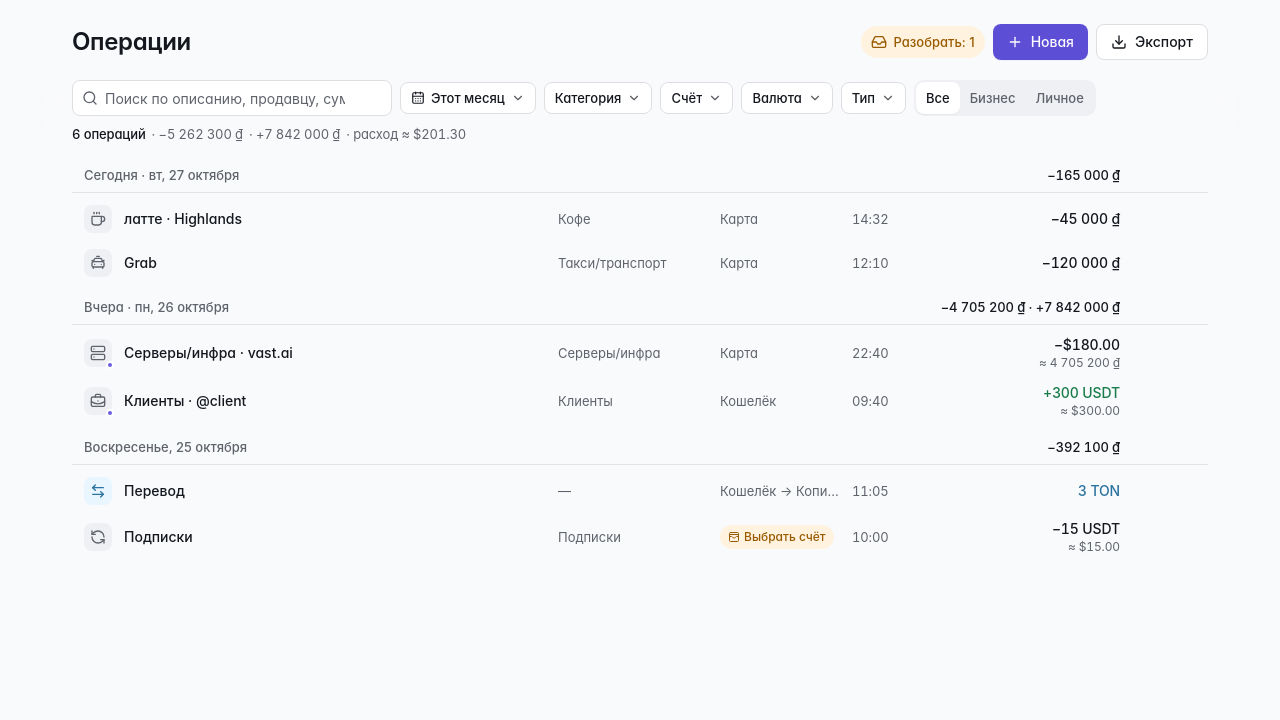
Test: OperationsView › shows a clear message on version conflict and keeps the form
The image size is (1280, 720).
Click the button "латте · Highlands Кофе Карта 14:32 −45 000 ₫": (183, 218) [72,197,1208,241]
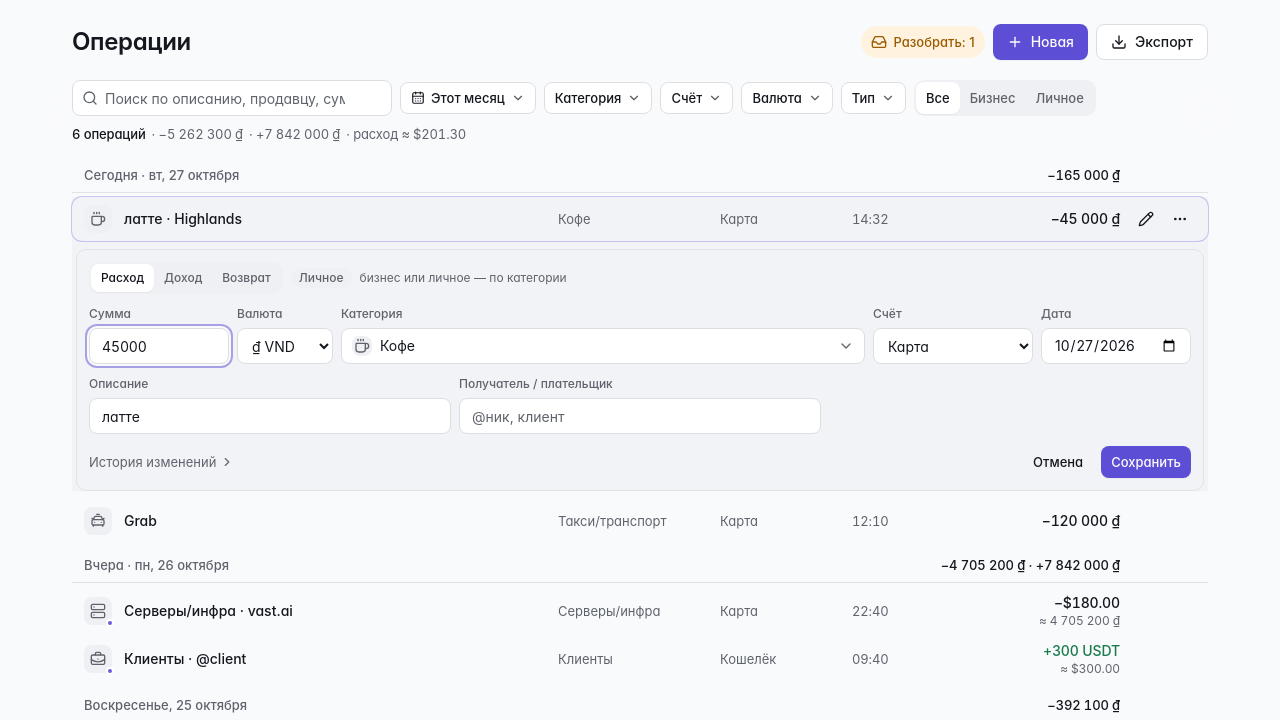
In the field labelled "Описание": (270, 416) [89,398,451,434], type " утро"
Then press Enter
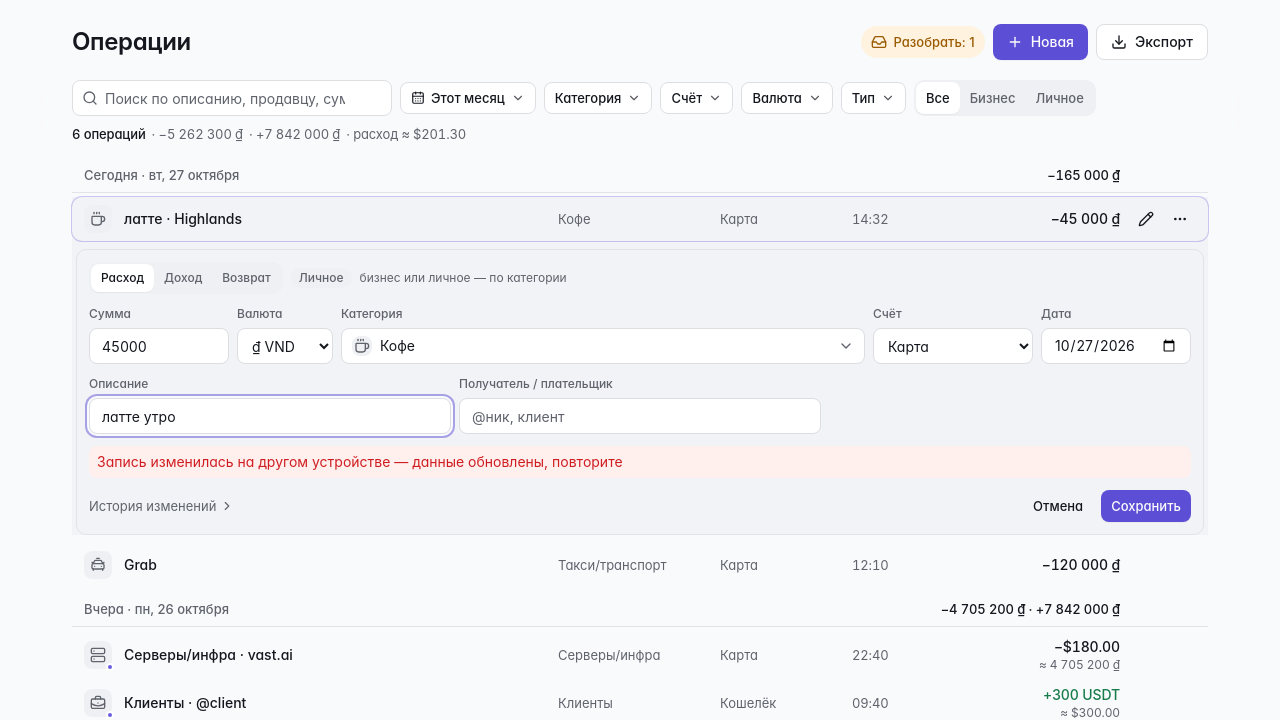
Expected: the message shows "изменилась на другом устройстве", [97,453,623,470]
